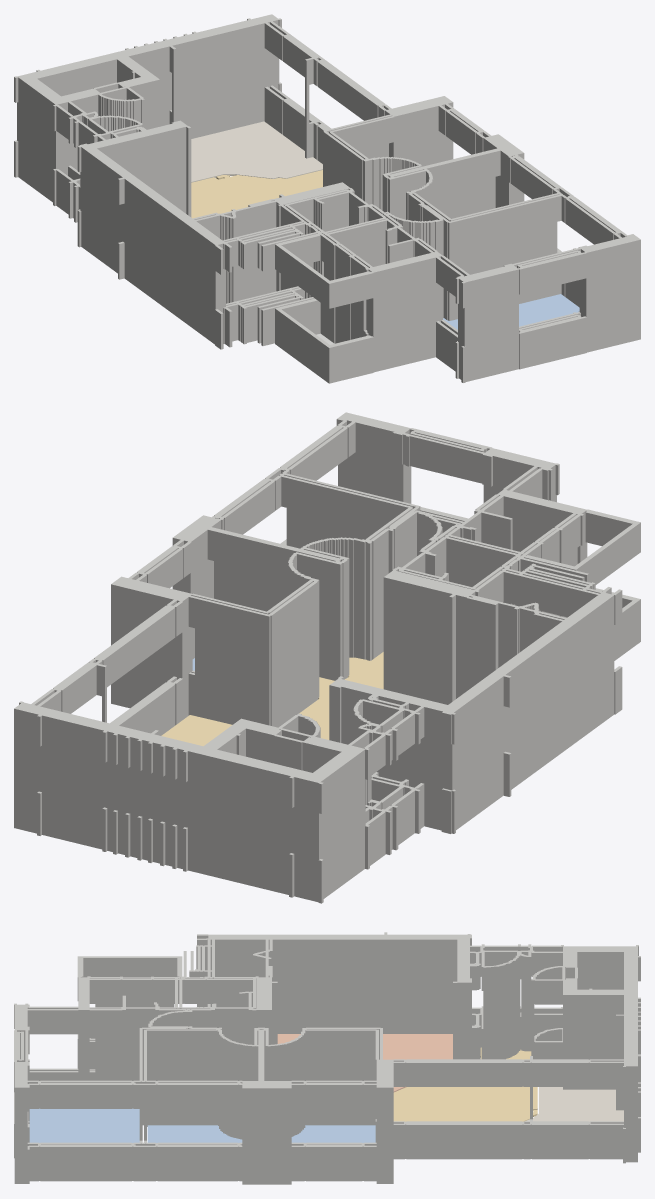
3 renders of one model, top to bottom at view 1: azimuth 30°, elevation 25°; view 2: azimuth 150°, elevation 25°; view 3: azimuth 270°, elevation 25°, orthographic. The views are drawn at different scales.
Parts seen in each view (by area): view 1: walls, room:other:1, room:living:4, room:bedroom:10; view 2: walls, room:living:4; view 3: walls, room:living:4, room:bedroom:10, room:other:1, room:kitchen:3, room:bedroom:8, room:bedroom:2.
Part boxes in pixels (x1,y1,x2,y2): walls: (14,14,640,383); room:other:1: (191,121,322,182); room:living:4: (191,170,322,218); room:bedroom:10: (443,294,579,329); walls: (14,412,640,903); room:living:4: (161,652,383,746); walls: (14,932,640,1184); room:living:4: (393,1047,537,1121); room:bedroom:10: (29,1108,139,1142); room:other:1: (525,1087,623,1121); room:kitchen:3: (277,1034,452,1092); room:bedroom:8: (147,1125,242,1142); room:bedroom:2: (291,1125,375,1142).
Bounding box in the file's own units: 9.73 × 2.8 × 16.53.
